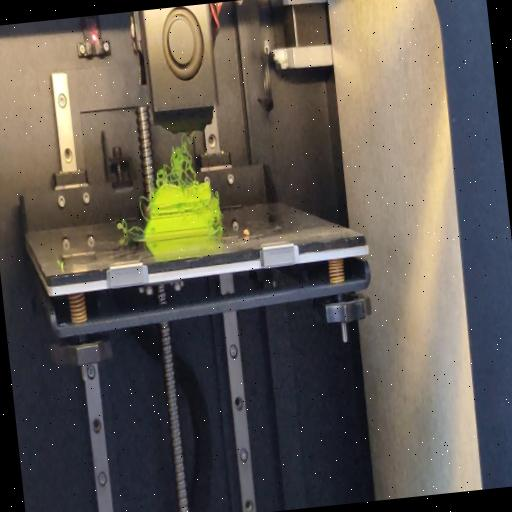spaghetti: (151, 130, 205, 190), (138, 191, 154, 221), (117, 219, 141, 238), (211, 222, 223, 235)
